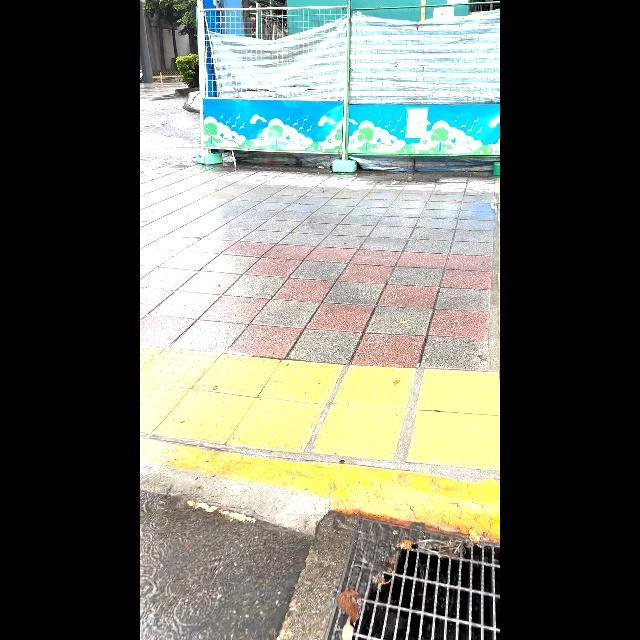sidewalk: (140, 441, 500, 640)
